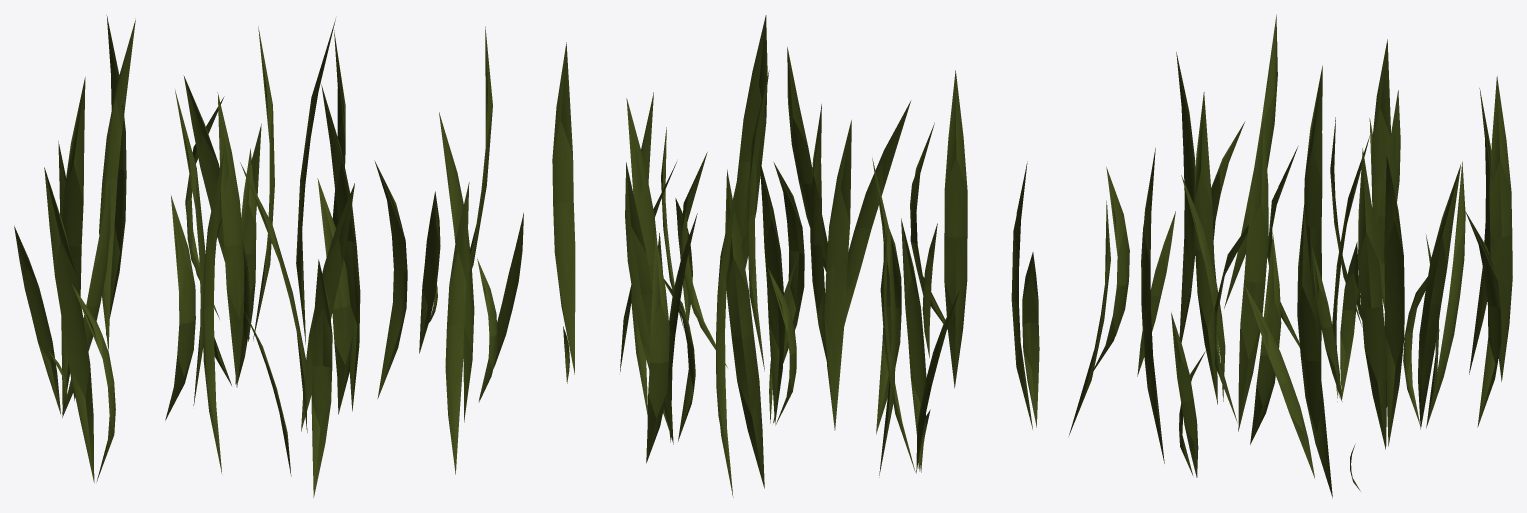
Rendered from Gras_v2.fbx.
3 views of the same model, side by side, from view 1: azimuth 30°, elevation 25°; view 2: azimuth 150°, elevation 25°; view 3: azimuth 270°, elevation 25° (orthographic). The views are drawn at different scales.
Parts seen in each view (by area): view 1: Gras_v2; view 2: Gras_v2; view 3: Gras_v2.
Part boxes in pixels (left/top/right/bottom): Gras_v2: left=14, top=15, right=523, bottom=497; Gras_v2: left=552, top=15, right=1039, bottom=497; Gras_v2: left=1068, top=14, right=1512, bottom=498.
Bounding box in the file's own units: 200 × 134 × 176.
Materials: 1 (1 with a texture image).
